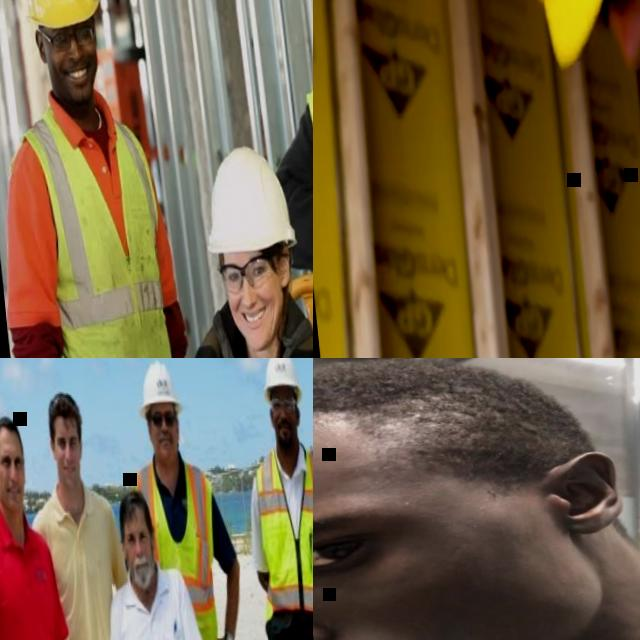Hardhat: (195, 137, 296, 259), (472, 0, 640, 73), (17, 0, 102, 32), (133, 361, 184, 414), (258, 358, 299, 393)
NO-Hardhat: (313, 358, 591, 494), (42, 389, 82, 423), (116, 490, 149, 526), (0, 412, 21, 448)
NO-Mask: (313, 551, 613, 640), (231, 297, 283, 351), (46, 59, 101, 110), (152, 433, 181, 467), (0, 484, 26, 518), (269, 419, 298, 447), (57, 458, 80, 489)
NO-Safety Vest: (40, 494, 123, 640), (0, 519, 62, 640), (109, 567, 205, 640)
Person: (313, 358, 640, 640), (0, 0, 207, 358), (470, 0, 640, 358), (125, 135, 313, 358), (117, 358, 263, 640), (17, 384, 152, 640), (244, 0, 313, 358), (230, 358, 313, 640), (88, 481, 218, 640), (0, 408, 87, 640)
Safety Vest: (3, 105, 176, 358), (130, 454, 228, 640), (248, 442, 313, 640)
